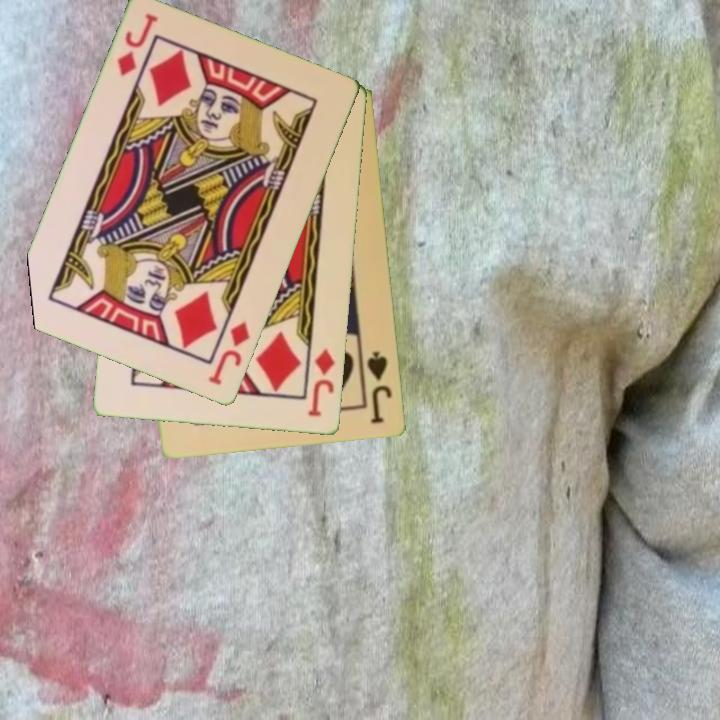Jd: (205, 318, 254, 389), (114, 10, 162, 79), (305, 345, 339, 420)
Js: (364, 348, 395, 427)
